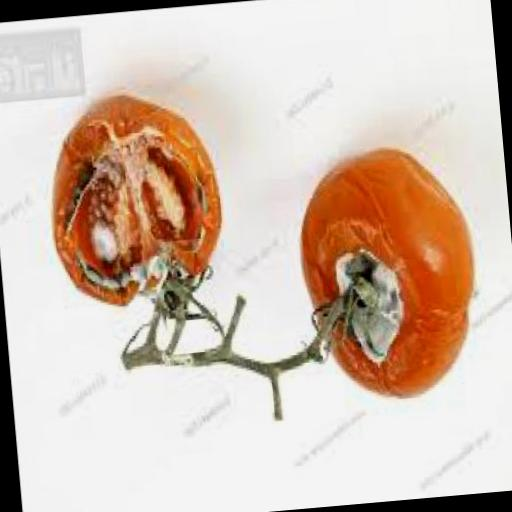biodegradable: (293, 142, 486, 411), (42, 86, 232, 335)
